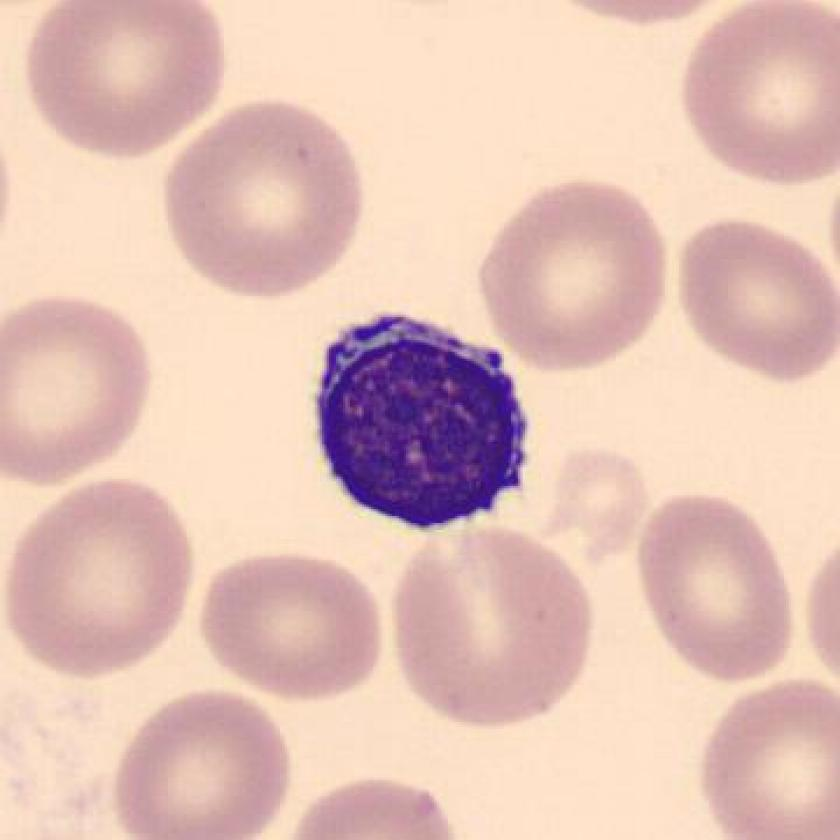lymphocyte: (304, 293, 559, 552)
